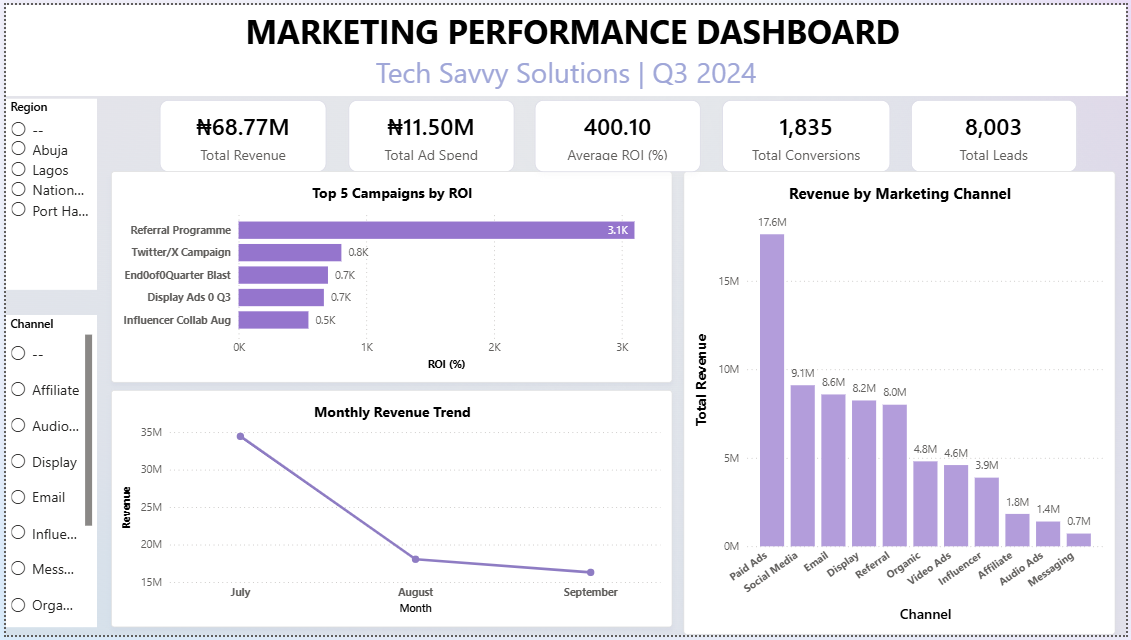

The dashboard page shown, as its layout file describes it:
{"tool":"powerbi","page":{"name":"Portfolio dashboard","canvas":[1280,720],"ordinal":0},"visuals":[{"type":"lineChart","title":"Monthly Revenue Trend","fields":{"Category":["Cleaned Data.Start_Date.Variation.Date Hierarchy.Month"],"Y":["Sum(Cleaned Data.Revenue (NGN))"]},"box":[119.9,440.7,641.5,270.9],"z":0},{"type":"card","fields":{"Values":["Cleaned Data.Total Revenue"]},"box":[175.6,108.4,190.7,82.3],"z":1000},{"type":"card","fields":{"Values":["Cleaned Data.Total Ad Spend"]},"box":[390.7,108.4,189.4,82.3],"z":2000},{"type":"card","fields":{"Values":["Cleaned Data.Total Conversions"]},"box":[818.2,108.4,192.1,82.3],"z":3000},{"type":"card","fields":{"Values":["Cleaned Data.Total Leads"]},"box":[1034.7,108.4,189.4,82.3],"z":4000},{"type":"clusteredBarChart","title":"Top 5 Campaigns by ROI","fields":{"Category":["Cleaned Data.Campaign_Name"],"Y":["Sum(Cleaned Data.ROI (%))"]},"box":[119.9,190,641.5,241.2],"z":5000},{"type":"clusteredColumnChart","title":"Revenue by Marketing Channel","fields":{"Category":["Cleaned Data.Channel"],"Y":["Cleaned Data.Total Revenue"]},"box":[774.9,190,493.2,529.6],"z":6000},{"type":"listSlicer","fields":{"Values":["Cleaned Data.Region"]},"box":[0,107.8,103.8,218.3],"z":7000},{"type":"listSlicer","fields":{"Values":["Cleaned Data.Channel"]},"box":[0,354.4,103.8,357.1],"z":8000},{"type":"textbox","box":[0,0,1280.3,103.8],"z":9000},{"type":"card","fields":{"Values":["Cleaned Data.Average ROI (%)"]},"box":[604.5,108.4,189.4,82.3],"z":10000}]}

Visuals, with their boxes in screenshot pixels (x1, y1, x2, y2), scaled from the page's 1280x720 canvas onto the 1131x640 screenshot:
"Monthly Revenue Trend" lineChart: select_region(106, 392, 673, 633)
card - Cleaned Data.Total Revenue: select_region(155, 96, 324, 170)
card - Cleaned Data.Total Ad Spend: select_region(345, 96, 513, 170)
card - Cleaned Data.Total Conversions: select_region(723, 96, 893, 170)
card - Cleaned Data.Total Leads: select_region(914, 96, 1082, 170)
"Top 5 Campaigns by ROI" clusteredBarChart: select_region(106, 169, 673, 383)
"Revenue by Marketing Channel" clusteredColumnChart: select_region(685, 169, 1120, 639)
listSlicer - Cleaned Data.Region: select_region(0, 96, 92, 290)
listSlicer - Cleaned Data.Channel: select_region(0, 315, 92, 632)
textbox: select_region(0, 0, 1130, 92)
card - Cleaned Data.Average ROI (%): select_region(534, 96, 701, 170)
